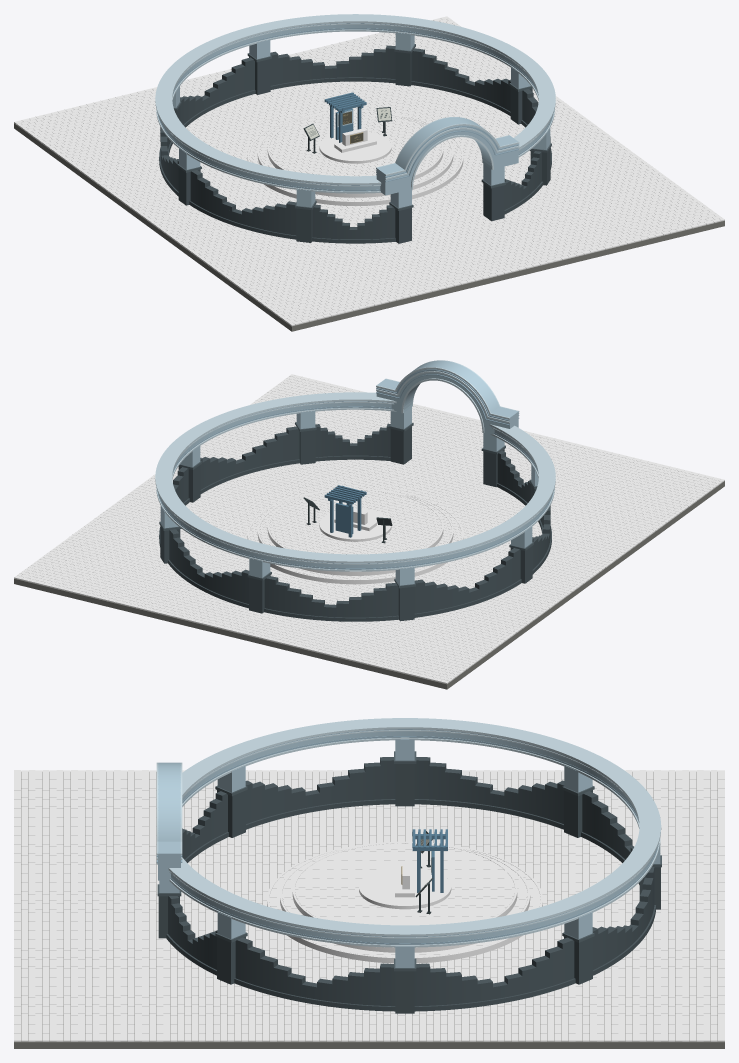
File: labuan_surrender_point.gltf
3 renders of one model, top to bottom at view 1: azimuth 30°, elevation 25°; view 2: azimuth 150°, elevation 25°; view 3: azimuth 270°, elevation 25°, orthographic. The views are drawn at different scales.
Parts seen in each view (by area): view 1: Entire ground plane tiles | grey stone, Circular upper top coping, Circular wall | curved lower body, Entire ground plane tiles | red accents, Circular stair 03 tiles | grey stone, Ground plane | full tiled footprint, Main entrance arch with shouldered ends, Circular upper beam body, Circular wall | curved foot ring, Circular upper lower bead, Central circular memorial dais, Circular stair 01 tiles | grey stone (+11 smaller); view 2: Entire ground plane tiles | grey stone, Circular upper top coping, Circular stair 03 tiles | grey stone, Circular wall | curved lower body, Entire ground plane tiles | red accents, Ground plane | full tiled footprint, Circular upper beam body, Main entrance arch with shouldered ends, Circular wall | curved foot ring, Circular upper lower bead, Circular upper cornice line, Circular upper lower shadow (+9 smaller); view 3: Entire ground plane tiles | grey stone, Ground plane | full tiled footprint, Circular upper top coping, Circular wall | curved lower body, Circular stair 03 tiles | grey stone, Entire ground plane tiles | red accents, Circular upper beam body, Circular wall | curved foot ring, Circular upper lower bead, Main entrance arch with shouldered ends, Central circular memorial dais, Circular upper cornice line (+19 smaller).
Part boxes in pixels (bbox=[...]): Entire ground plane tiles | grey stone: bbox=[14, 16, 724, 325]; Circular upper top coping: bbox=[155, 14, 555, 184]; Circular wall | curved lower body: bbox=[160, 65, 541, 239]; Entire ground plane tiles | red accents: bbox=[72, 33, 721, 321]; Circular stair 03 tiles | grey stone: bbox=[269, 112, 441, 176]; Ground plane | full tiled footprint: bbox=[14, 123, 724, 331]; Main entrance arch with shouldered ends: bbox=[376, 117, 518, 195]; Circular upper beam body: bbox=[158, 24, 552, 191]; Circular wall | curved foot ring: bbox=[159, 77, 551, 243]; Circular upper lower bead: bbox=[156, 29, 554, 193]; Central circular memorial dais: bbox=[319, 131, 391, 163]; Circular stair 01 tiles | grey stone: bbox=[249, 119, 461, 201]; Entire ground plane tiles | grey stone: bbox=[14, 374, 724, 683]; Circular upper top coping: bbox=[155, 392, 555, 563]; Circular stair 03 tiles | grey stone: bbox=[269, 490, 441, 554]; Circular wall | curved lower body: bbox=[169, 443, 550, 617]; Entire ground plane tiles | red accents: bbox=[64, 375, 716, 669]; Ground plane | full tiled footprint: bbox=[14, 481, 724, 689]; Circular upper beam body: bbox=[158, 402, 552, 569]; Main entrance arch with shouldered ends: bbox=[376, 360, 518, 434]; Circular wall | curved foot ring: bbox=[159, 455, 551, 621]; Circular upper lower bead: bbox=[156, 407, 554, 571]; Circular upper cornice line: bbox=[160, 401, 550, 564]; Circular upper lower shadow: bbox=[157, 406, 553, 569]; Entire ground plane tiles | grey stone: bbox=[14, 770, 724, 1041]; Ground plane | full tiled footprint: bbox=[14, 772, 724, 1048]; Circular upper top coping: bbox=[168, 718, 661, 936]; Circular wall | curved lower body: bbox=[168, 787, 654, 1006]; Circular stair 03 tiles | grey stone: bbox=[295, 843, 514, 925]; Entire ground plane tiles | red accents: bbox=[14, 770, 724, 1041]; Circular upper beam body: bbox=[171, 731, 657, 944]; Circular wall | curved foot ring: bbox=[166, 799, 656, 1011]; Circular upper lower bead: bbox=[169, 737, 659, 947]; Main entrance arch with shouldered ends: bbox=[158, 762, 180, 880]; Central circular memorial dais: bbox=[359, 867, 451, 909]; Circular upper cornice line: bbox=[169, 730, 654, 938].
Size of the model in its own units: 18 by 4.47 by 20.
